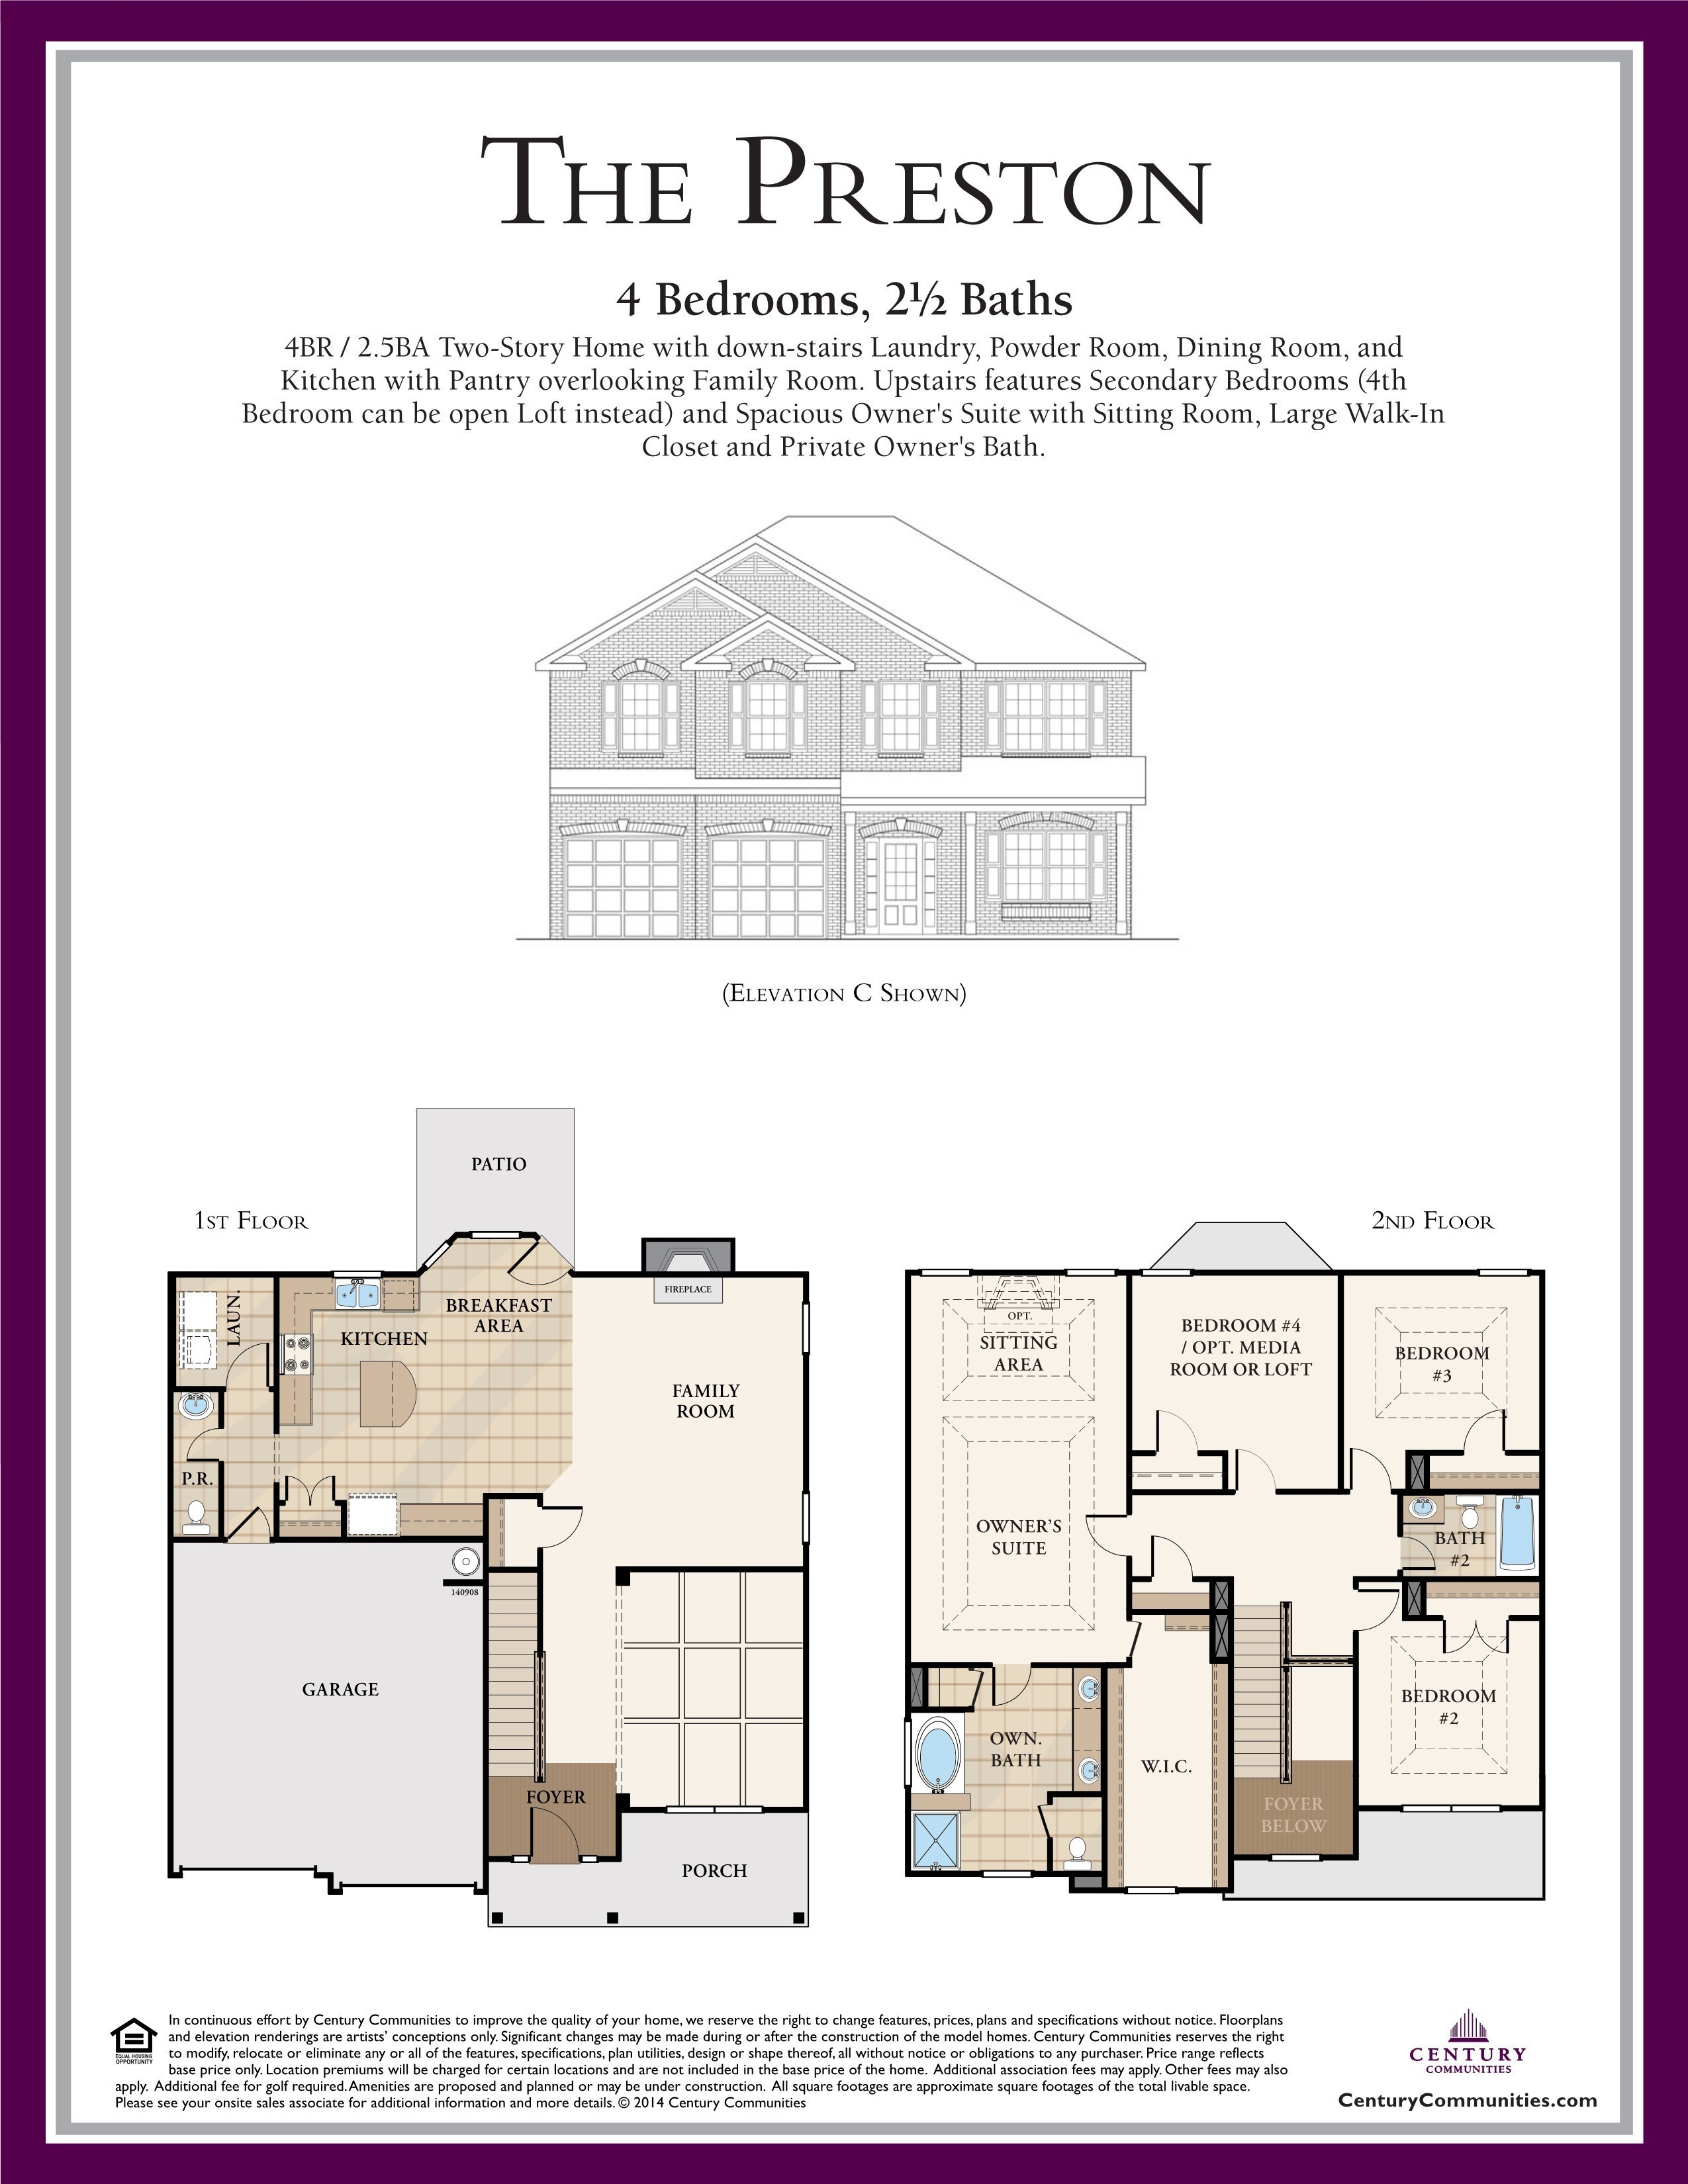door: (528, 1805, 578, 1863), (282, 1466, 337, 1507), (1231, 1447, 1277, 1494), (1149, 1533, 1193, 1583), (1355, 1587, 1399, 1636), (543, 1500, 585, 1551), (991, 1659, 1034, 1711), (1154, 1408, 1199, 1455), (1348, 1447, 1392, 1494), (225, 1507, 271, 1546), (184, 1425, 220, 1466)
